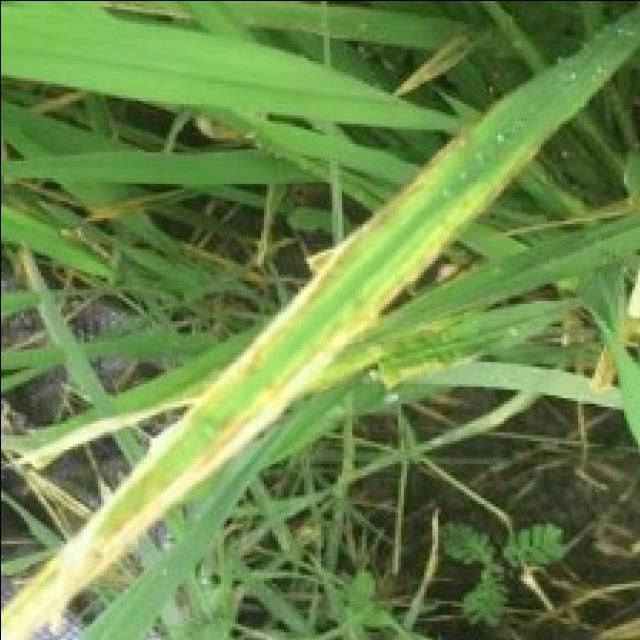Unhealthy: (0, 103, 534, 640), (12, 368, 222, 468), (307, 324, 444, 393), (585, 285, 633, 393), (0, 87, 88, 140), (393, 35, 462, 94), (377, 355, 477, 388), (85, 196, 141, 218)
